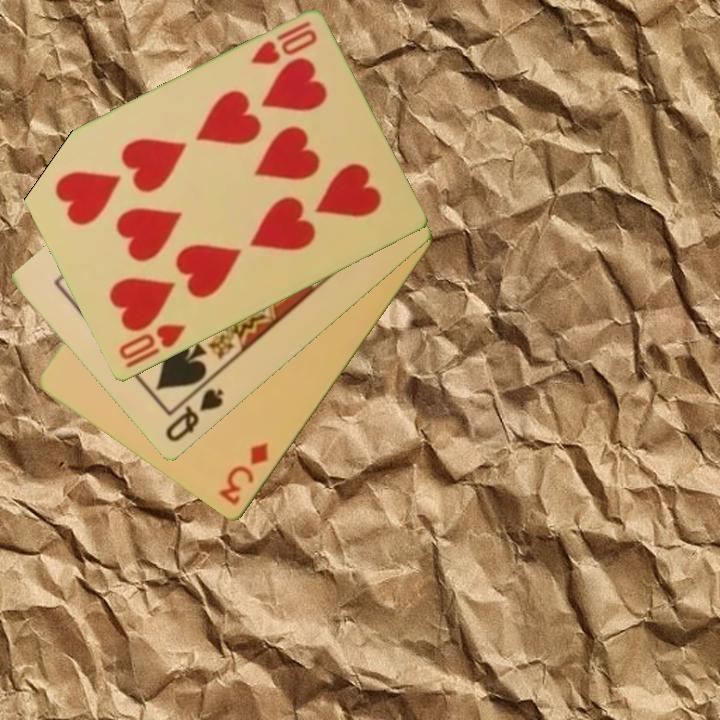10h: (115, 321, 189, 372), (247, 18, 320, 68)
3d: (215, 439, 272, 509)
Qs: (162, 385, 227, 446)
